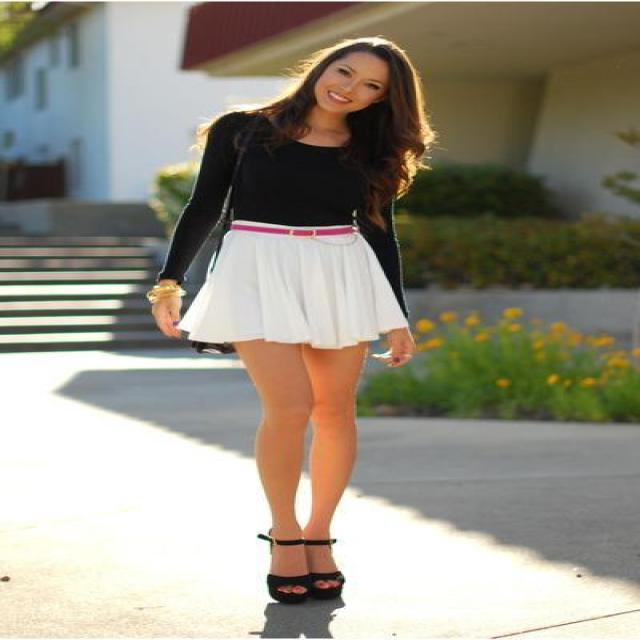shirt: (160, 108, 408, 284)
shoe: (267, 538, 344, 604)
skirt: (176, 221, 408, 348)
